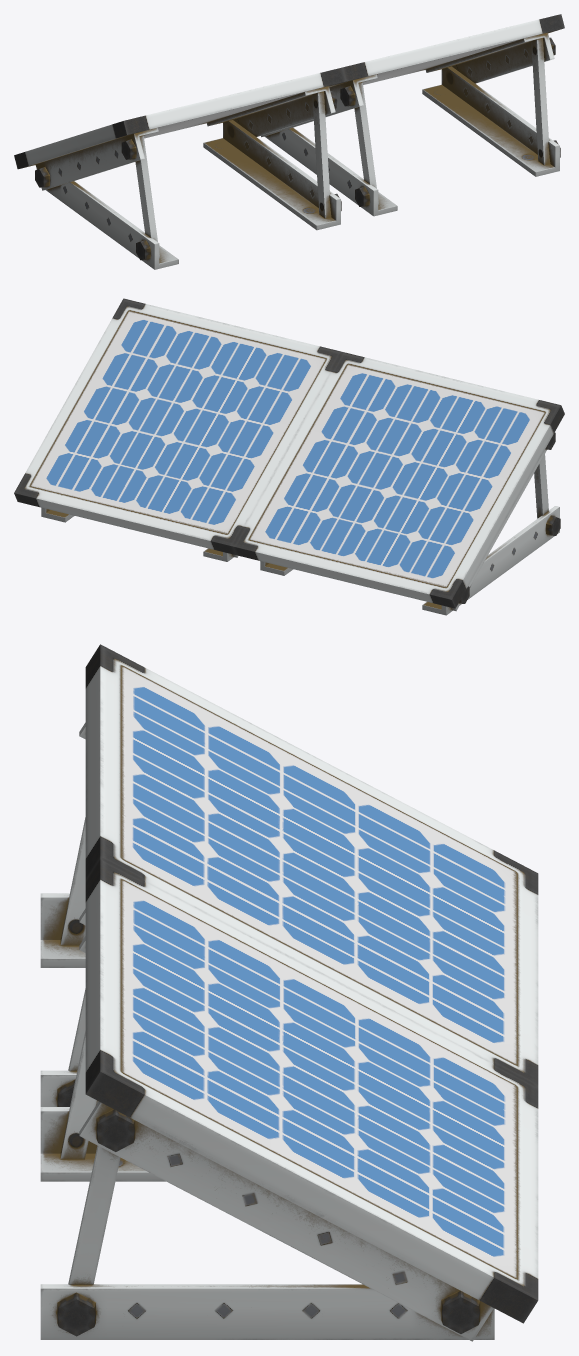
The model's file is P_RoofEquipment_009_S1_M01_Middle.obj.
3 views of the same model, one above another, from view 1: azimuth 30°, elevation 25°; view 2: azimuth 150°, elevation 25°; view 3: azimuth 270°, elevation 25° (orthographic). The views are drawn at different scales.
Bounding box in the file's own units: 2 × 0.6204 × 0.9837.
Materials: 2 (2 with a texture image).
